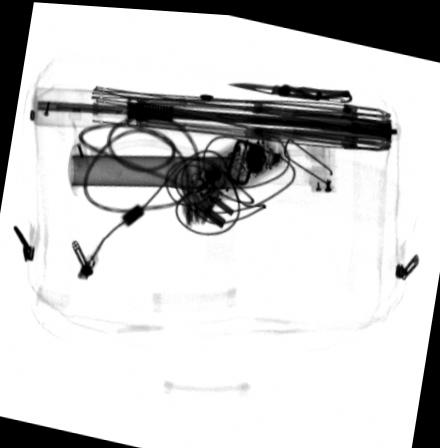Knife: (226, 77, 353, 98)
